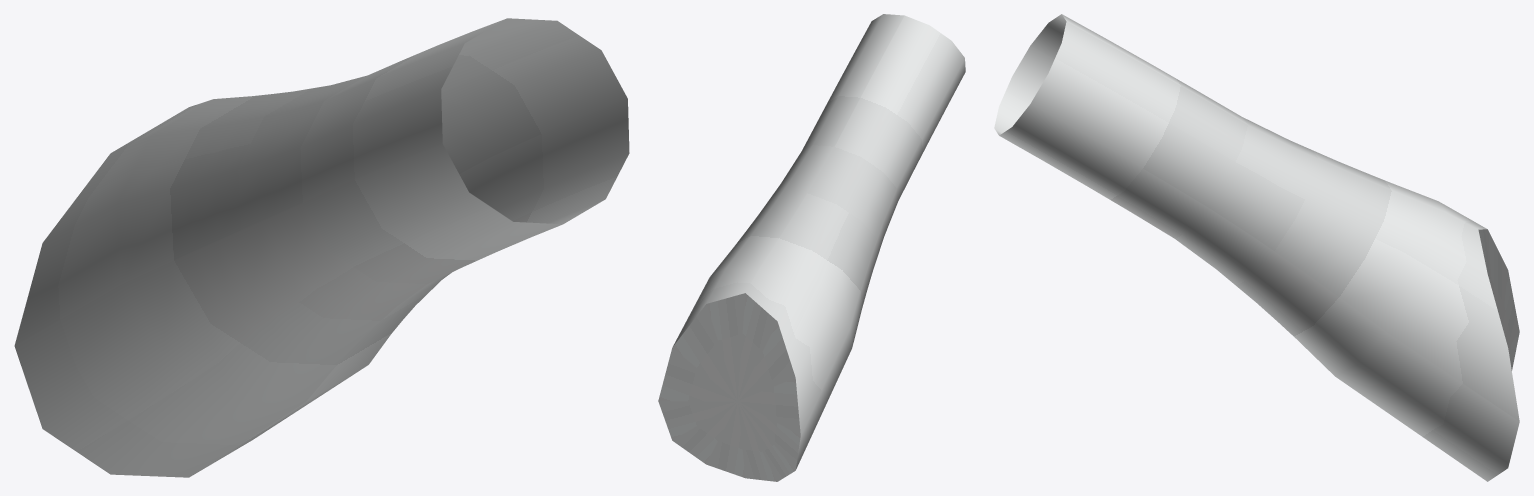
File: luminairearm_caltrans10ftdouble_c6_thin.obj
The picture shows the model from 3 angles, left to right: view 1: azimuth 30°, elevation 25°; view 2: azimuth 150°, elevation 25°; view 3: azimuth 270°, elevation 25°; orthographic projection. The views are drawn at different scales.
Parts seen in each view (by area): view 1: luminairearm_caltrans10ftdouble_c6_thin; view 2: luminairearm_caltrans10ftdouble_c6_thin; view 3: luminairearm_caltrans10ftdouble_c6_thin.
Part boxes in pixels (<box>): luminairearm_caltrans10ftdouble_c6_thin: <box>14,18,629,477</box>; luminairearm_caltrans10ftdouble_c6_thin: <box>658,14,965,481</box>; luminairearm_caltrans10ftdouble_c6_thin: <box>994,14,1519,481</box>.
Bounding box in the file's own units: 0.3375 × 0.7836 × 0.8333.
